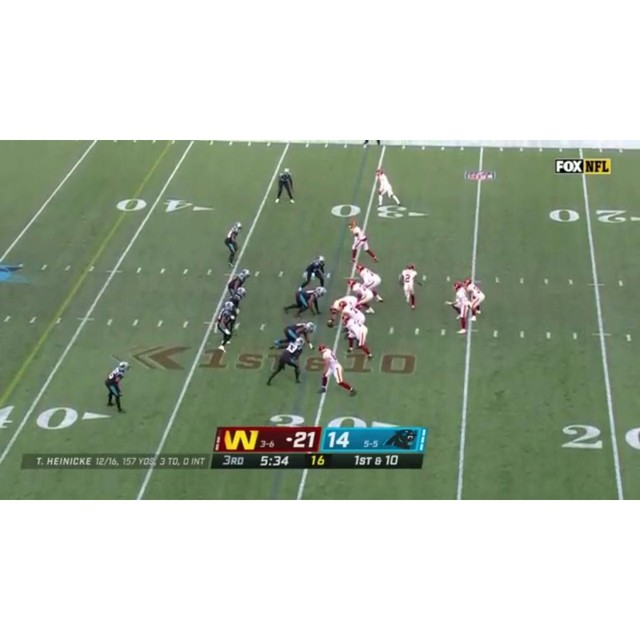american-football-player: (266, 335, 306, 386), (318, 344, 355, 396), (446, 281, 472, 337), (283, 285, 327, 318), (342, 315, 373, 361), (348, 220, 379, 264), (104, 361, 129, 413), (274, 322, 317, 351), (213, 303, 238, 351), (398, 262, 421, 310), (347, 279, 376, 315), (355, 263, 382, 301), (463, 278, 486, 322), (375, 168, 401, 206), (300, 256, 326, 291), (224, 222, 242, 267), (276, 168, 295, 204), (227, 269, 251, 297)
